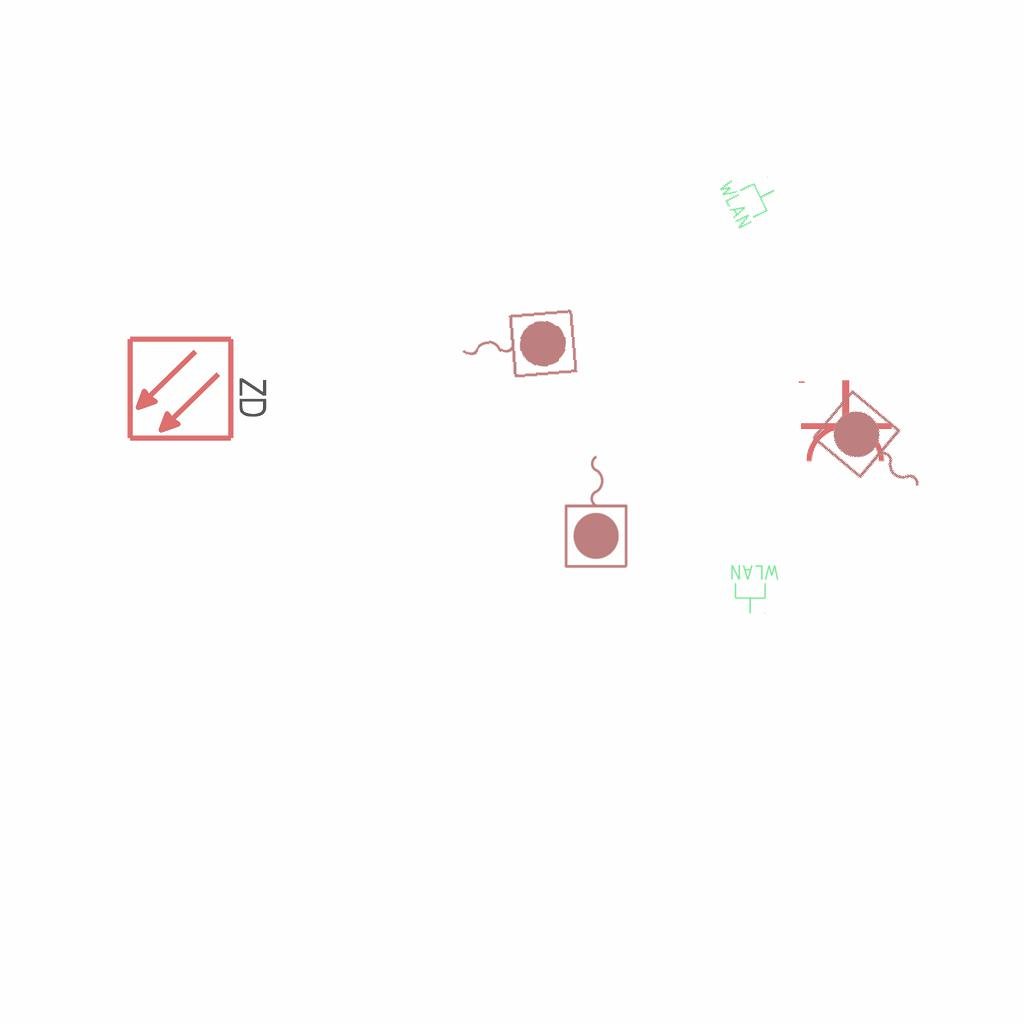Schukosteckdose_einfach: (794, 378, 894, 465)
WLAN: (715, 162, 785, 232), (729, 563, 781, 615)
ZD_Melder_in_Zwischendecke_mit_Revisionsoeffnung_mind_40_x_40_cm: (125, 330, 274, 444)
Zugtaster: (805, 384, 945, 518), (454, 303, 582, 387), (561, 450, 633, 572)
